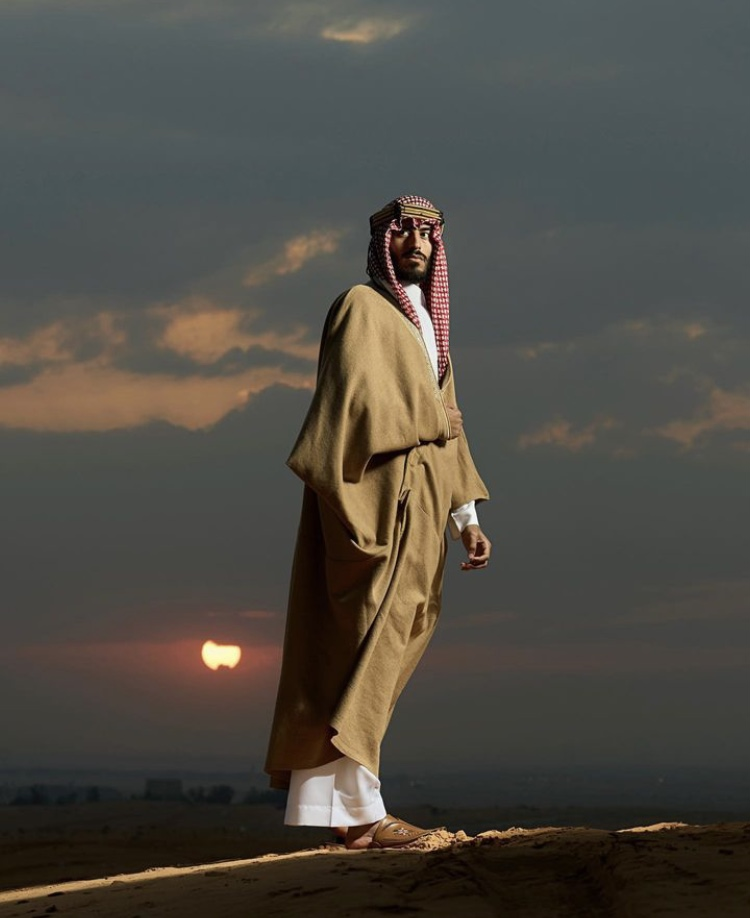Saudi_Founding_Day: (264, 192, 494, 850)
